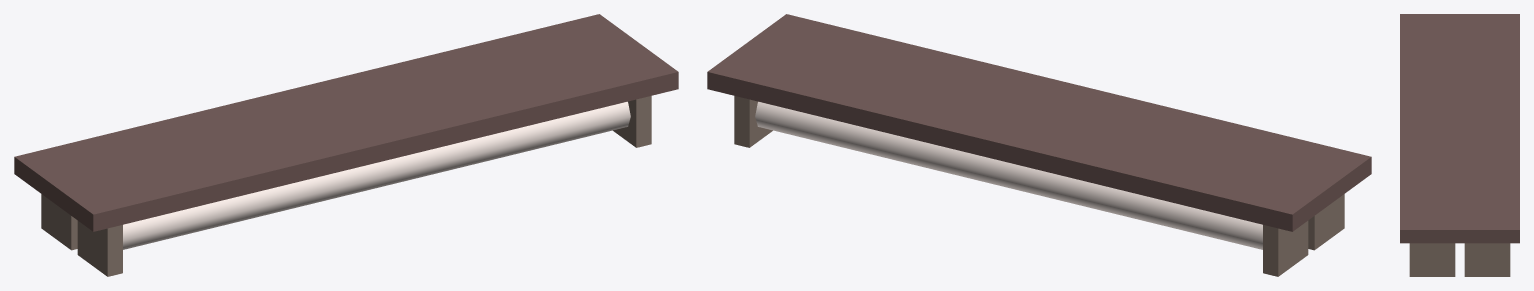
The model's file is Fluorescent Light.fbx.
3 views of the same model, side by side, from view 1: azimuth 30°, elevation 25°; view 2: azimuth 150°, elevation 25°; view 3: azimuth 270°, elevation 25° (orthographic). The views are drawn at different scales.
Parts seen in each view (by area): view 1: Fluorescent_Light; view 2: Fluorescent_Light; view 3: Fluorescent_Light.
Part boxes in pixels (x1,y1,x2,y2): Fluorescent_Light: (14,14,678,276); Fluorescent_Light: (707,14,1371,276); Fluorescent_Light: (1400,14,1519,276).
Bounding box in the file's own units: 0.0356 × 0.00419 × 0.00834.
